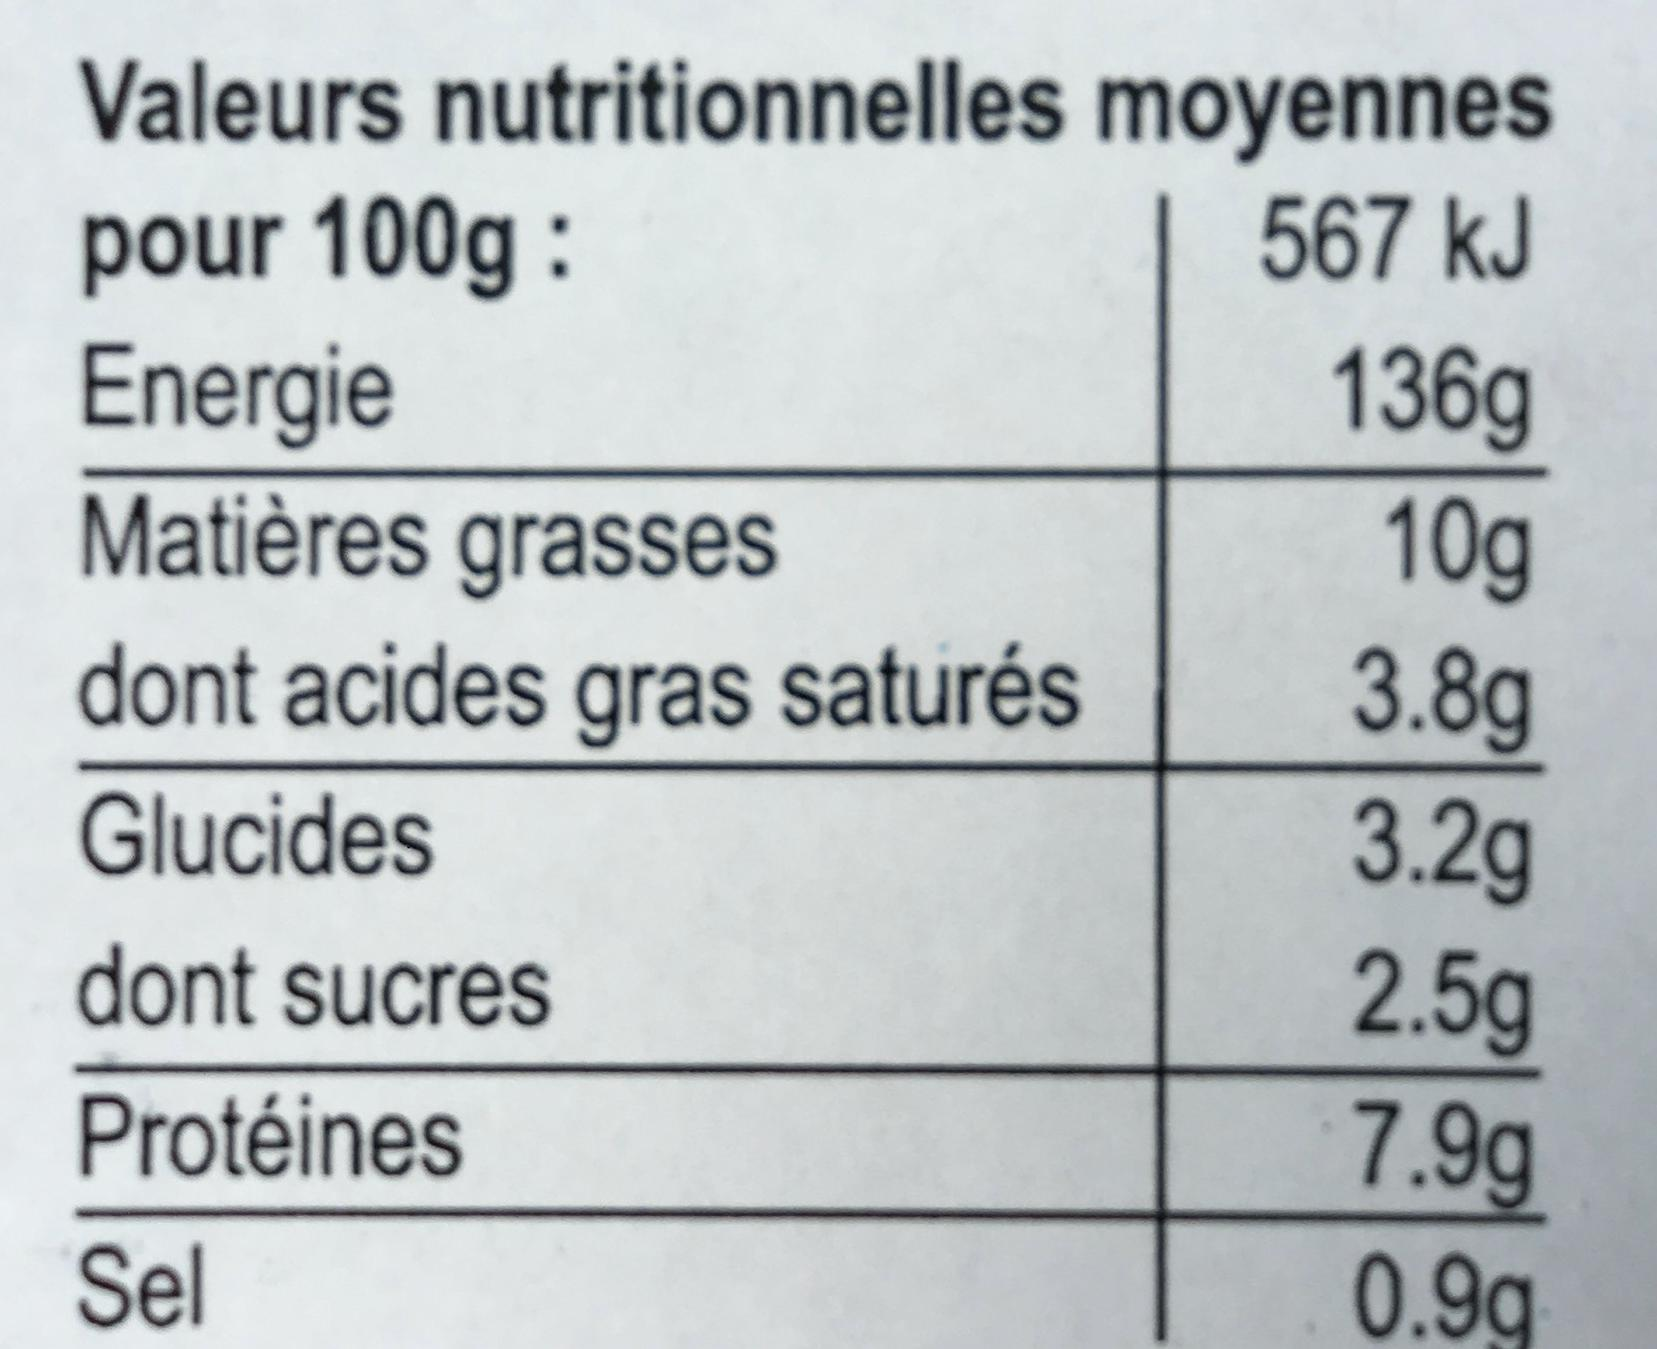column: (85, 194, 1091, 1327), (1263, 195, 1537, 1348)
line: (92, 937, 1533, 1056), (89, 639, 1529, 750), (85, 1090, 1535, 1200), (91, 793, 1529, 903), (87, 336, 1529, 445), (89, 493, 1532, 600), (92, 194, 1529, 301), (88, 1239, 1537, 1343), (81, 55, 1552, 157)
table: (74, 54, 1554, 1349)
